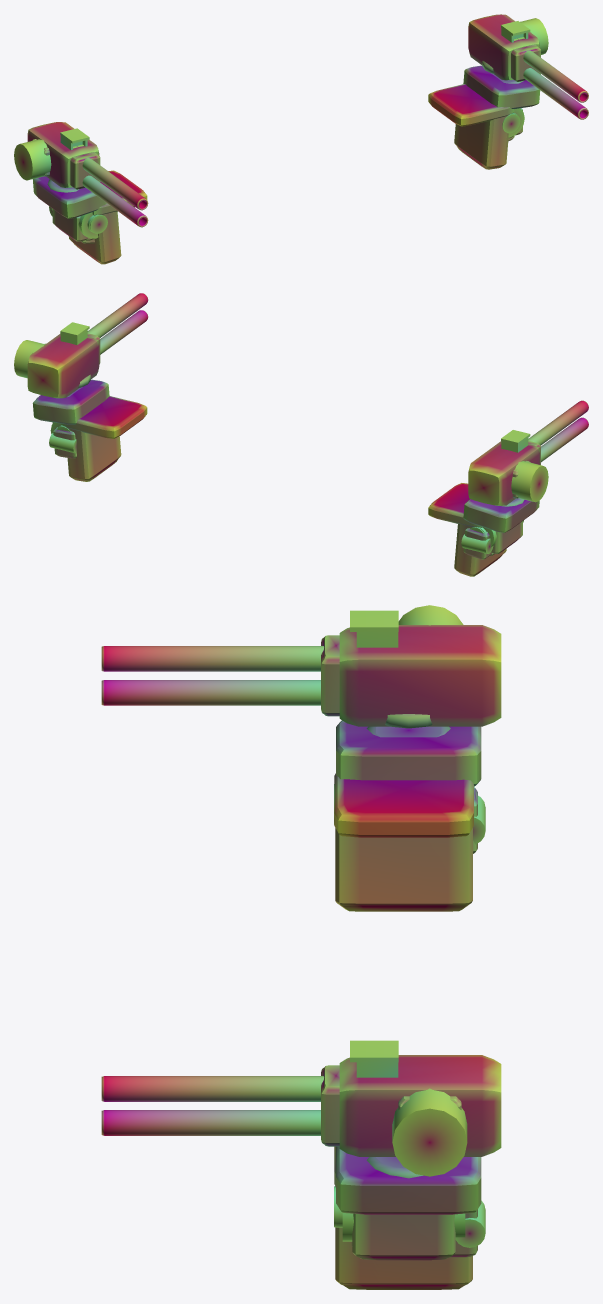
The model's file is llm_gen_shoulder_pods_109_23d178.glb.
3 views of the same model, one above another, from view 1: azimuth 30°, elevation 25°; view 2: azimuth 150°, elevation 25°; view 3: azimuth 270°, elevation 25° (orthographic). The views are drawn at different scales.
Visible parts, largest first — view 1: adapter_shoulder_yoke_r, adapter_shoulder_yoke_l, turret_breech_2_adapter_dark_r, turret_adapter_base_0_adapter_dark_r, turret_breech_2_adapter_dark_l, turret_adapter_base_0_adapter_dark_l, ciws_drum_mag_5_crimson_gloss_l, ciws_barrel_top_6_barrel_metal_r, ciws_barrel_top_6_barrel_metal_l, ciws_barrel_bot_7_barrel_metal_r, ciws_barrel_bot_7_barrel_metal_l, adapter_sub_ciws_shroud_dark_3_adapter_dark_l (+4 smaller); view 2: adapter_shoulder_yoke_r, turret_breech_2_adapter_dark_r, adapter_shoulder_yoke_l, turret_breech_2_adapter_dark_l, turret_adapter_base_0_adapter_dark_r, turret_adapter_base_0_adapter_dark_l, ciws_drum_mag_5_crimson_gloss_l, ciws_barrel_top_6_barrel_metal_l, ciws_barrel_top_6_barrel_metal_r, ciws_barrel_bot_7_barrel_metal_r, ciws_barrel_bot_7_barrel_metal_l, ciws_drum_mag_5_crimson_gloss_r (+4 smaller); view 3: adapter_shoulder_yoke_l, turret_breech_2_adapter_dark_l, turret_breech_2_adapter_dark_r, adapter_shoulder_yoke_r, turret_adapter_base_0_adapter_dark_l, turret_adapter_base_0_adapter_dark_r, ciws_barrel_top_6_barrel_metal_r, ciws_barrel_top_6_barrel_metal_l, ciws_barrel_bot_7_barrel_metal_r, ciws_barrel_bot_7_barrel_metal_l, ciws_drum_mag_5_crimson_gloss_r, adapter_sub_turret_sensor_eye_8_dark_r (+5 smaller).
Boxes of the visible parts, box(x1,y1,x2,y2) form: adapter_shoulder_yoke_r: box(428, 84, 524, 169); adapter_shoulder_yoke_l: box(51, 170, 147, 264); turret_breech_2_adapter_dark_r: box(468, 14, 539, 80); turret_adapter_base_0_adapter_dark_r: box(463, 65, 540, 108); turret_breech_2_adapter_dark_l: box(27, 122, 99, 187); turret_adapter_base_0_adapter_dark_l: box(33, 176, 106, 218); ciws_drum_mag_5_crimson_gloss_l: box(14, 139, 51, 180); ciws_barrel_top_6_barrel_metal_r: box(523, 50, 588, 102); ciws_barrel_top_6_barrel_metal_l: box(82, 158, 148, 210); ciws_barrel_bot_7_barrel_metal_r: box(523, 68, 588, 119); ciws_barrel_bot_7_barrel_metal_l: box(82, 175, 148, 227); adapter_sub_ciws_shroud_dark_3_adapter_dark_l: box(70, 152, 100, 189); adapter_shoulder_yoke_r: box(50, 396, 147, 481); turret_breech_2_adapter_dark_r: box(27, 333, 99, 398); adapter_shoulder_yoke_l: box(428, 483, 523, 576); turret_breech_2_adapter_dark_l: box(468, 441, 539, 505); turret_adapter_base_0_adapter_dark_r: box(32, 379, 109, 424); turret_adapter_base_0_adapter_dark_l: box(463, 499, 539, 532); ciws_drum_mag_5_crimson_gloss_l: box(511, 461, 548, 502); ciws_barrel_top_6_barrel_metal_l: box(528, 400, 588, 445); ciws_barrel_top_6_barrel_metal_r: box(87, 293, 148, 337); ciws_barrel_bot_7_barrel_metal_r: box(100, 310, 148, 354); ciws_barrel_bot_7_barrel_metal_l: box(541, 417, 588, 462); ciws_drum_mag_5_crimson_gloss_r: box(14, 340, 44, 378); adapter_shoulder_yoke_l: box(334, 773, 473, 911); turret_breech_2_adapter_dark_l: box(339, 625, 501, 726); turret_breech_2_adapter_dark_r: box(339, 1055, 501, 1156); adapter_shoulder_yoke_r: box(334, 1146, 472, 1289); turret_adapter_base_0_adapter_dark_l: box(336, 720, 481, 786); turret_adapter_base_0_adapter_dark_r: box(336, 1146, 481, 1214); ciws_barrel_top_6_barrel_metal_r: box(101, 1076, 323, 1101); ciws_barrel_top_6_barrel_metal_l: box(101, 646, 323, 671); ciws_barrel_bot_7_barrel_metal_r: box(101, 1110, 320, 1135); ciws_barrel_bot_7_barrel_metal_l: box(101, 680, 320, 705); ciws_drum_mag_5_crimson_gloss_r: box(392, 1088, 467, 1176); adapter_sub_turret_sensor_eye_8_dark_r: box(350, 1040, 398, 1077).
Size of the model in its own units: 111 by 26.7 by 37.17.
